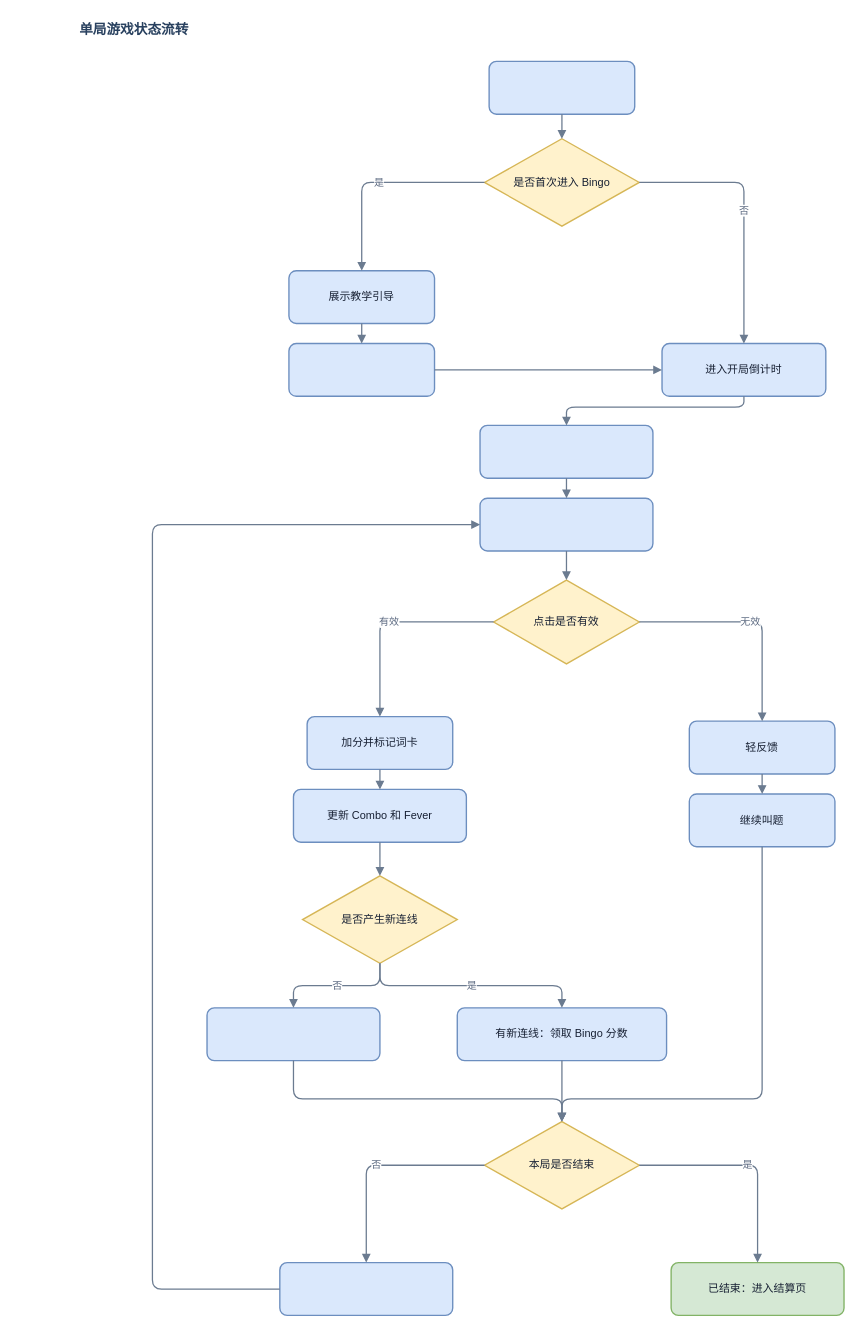
This 860x1331 diagram has some shape labels left out. The shapes that lost their labels are listed below. From the top down, each one's centre as x and y in pixels, then its label:
(x=561, y=87): 进入游戏页
(x=361, y=369): 完成教学
(x=566, y=451): 生成棋盘和题目队列
(x=566, y=524): 开始计时并叫题
(x=293, y=1034): 无新连线：继续叫题
(x=366, y=1289): 未结束：继续叫题
